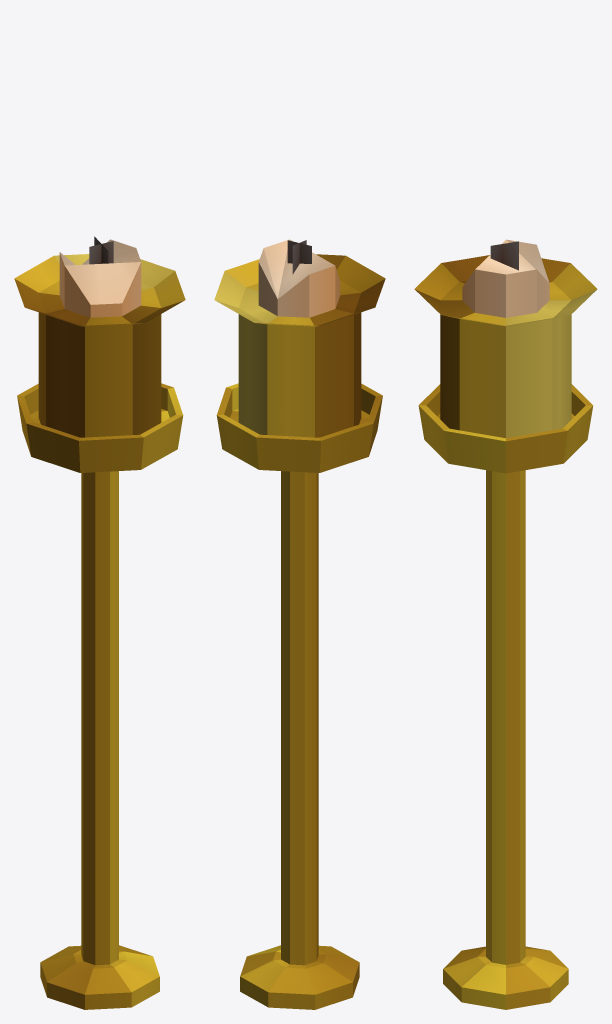
Rendered from spent_light_997x12.obj.
3 renders of one model, left to right at view 1: azimuth 30°, elevation 25°; view 2: azimuth 150°, elevation 25°; view 3: azimuth 270°, elevation 25°, orthographic.
Visible parts, largest first — view 1: spent_light_997x12; view 2: spent_light_997x12; view 3: spent_light_997x12.
Boxes of the visible parts, <box> form: spent_light_997x12: <box>14,236,185,1009</box>; spent_light_997x12: <box>214,239,385,1009</box>; spent_light_997x12: <box>414,239,597,1009</box>.
Bounding box in the file's own units: 0.3802 × 2.29 × 0.401.
